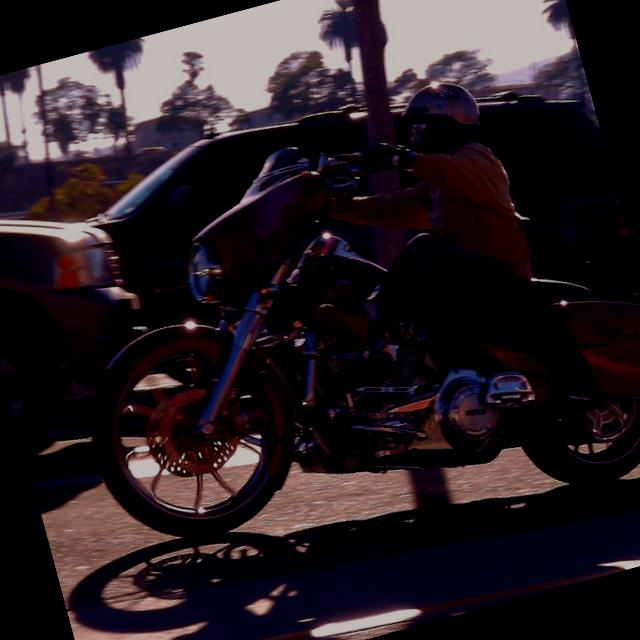Vehicle: (28, 57, 640, 624), (178, 38, 640, 406), (72, 95, 406, 348), (0, 177, 170, 449)
